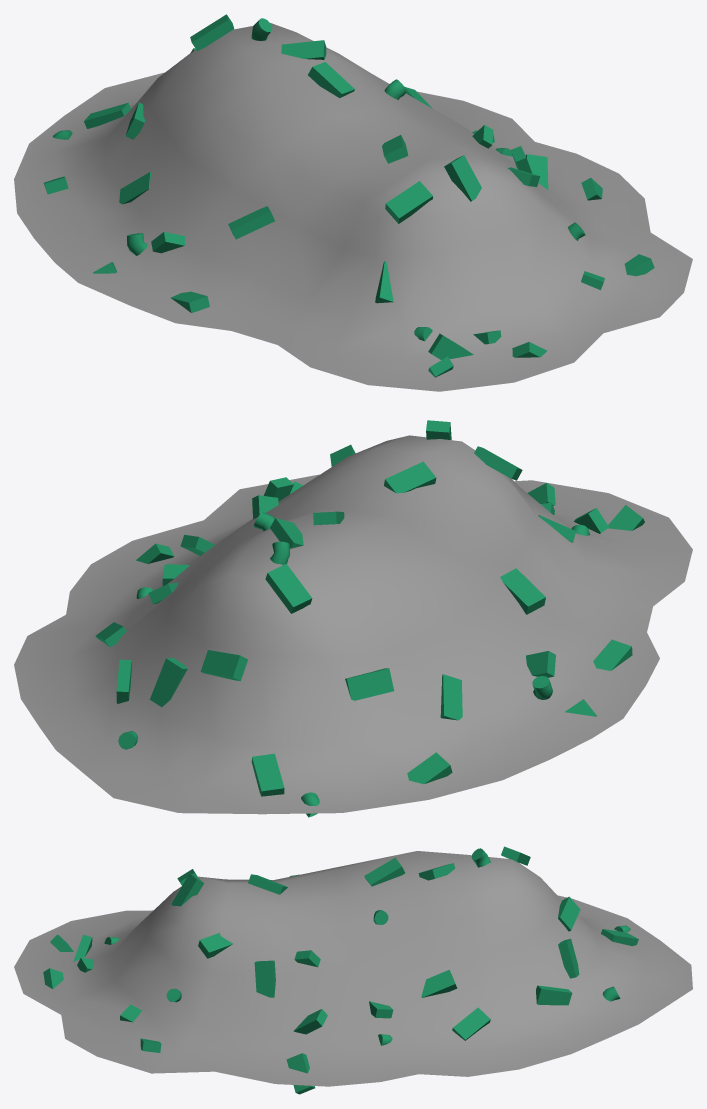
Rendered from Pile_garbage.fbx.
The picture shows the model from 3 angles, top to bottom: view 1: azimuth 30°, elevation 25°; view 2: azimuth 150°, elevation 25°; view 3: azimuth 270°, elevation 25°; orthographic projection. The views are drawn at different scales.
Visible parts, largest first — view 1: Pile, Bricks_can_low; view 2: Pile, Bricks_can_low; view 3: Pile, Bricks_can_low.
Boxes of the visible parts, left/top/right/bottom form: Pile: left=14, top=23, right=692, bottom=391; Bricks_can_low: left=43, top=14, right=654, bottom=377; Pile: left=14, top=435, right=692, bottom=814; Bricks_can_low: left=95, top=420, right=644, bottom=817; Pile: left=14, top=851, right=692, bottom=1086; Bricks_can_low: left=43, top=846, right=638, bottom=1094.
Bounding box in the file's own units: 5282 × 1726 × 7161.
